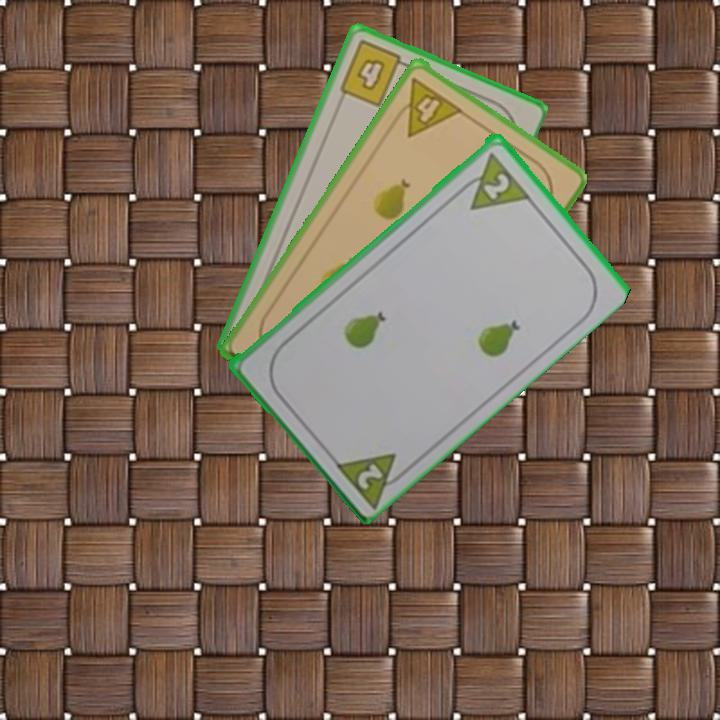2p: (329, 448, 414, 509), (453, 148, 532, 213)
4b: (335, 36, 414, 110)
4p: (387, 73, 466, 140)
